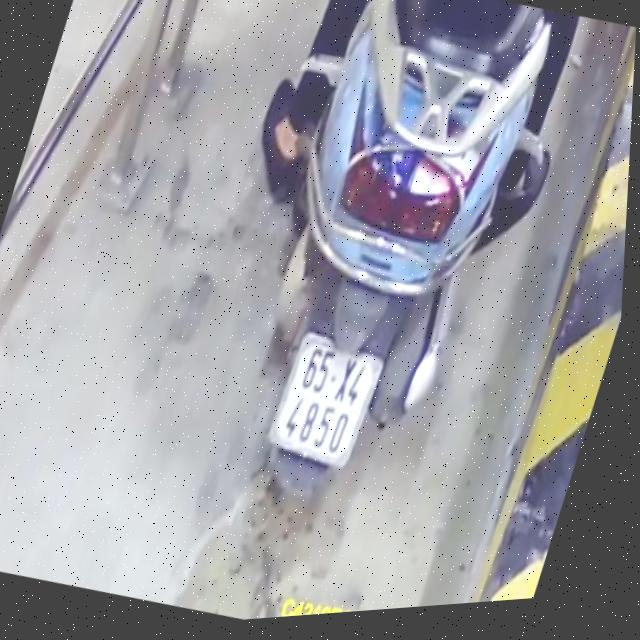motorcycle: (189, 0, 562, 540)
plate: (253, 314, 395, 484)
